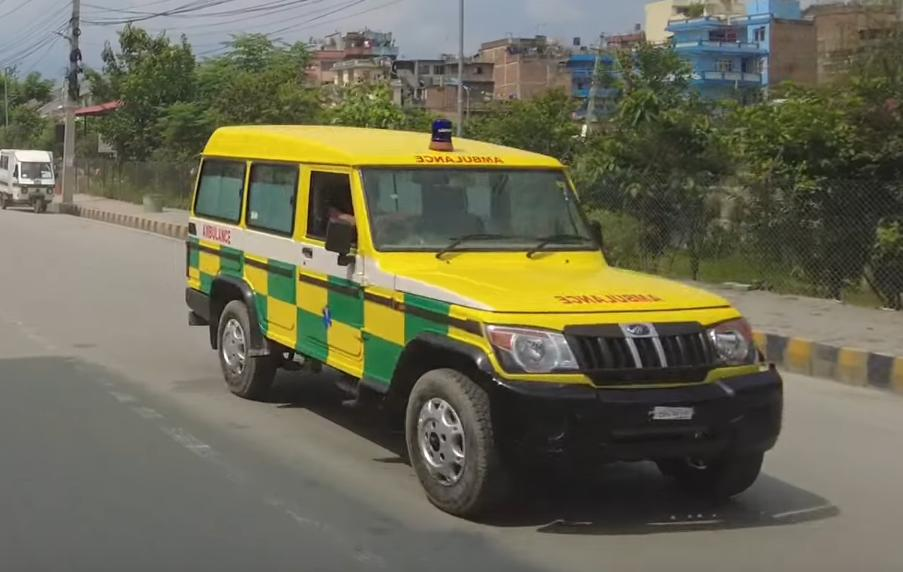ambulance: (181, 109, 790, 523)
tempo: (0, 146, 60, 215)
